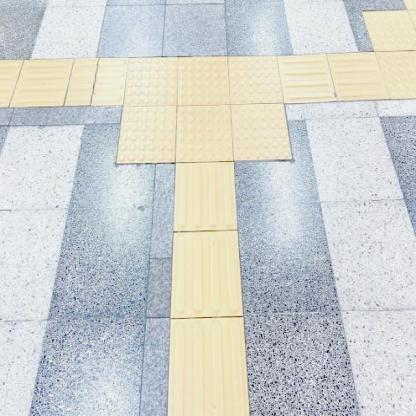podotacti: (73, 20, 340, 257), (176, 164, 249, 415), (0, 59, 124, 106), (285, 54, 378, 104)
